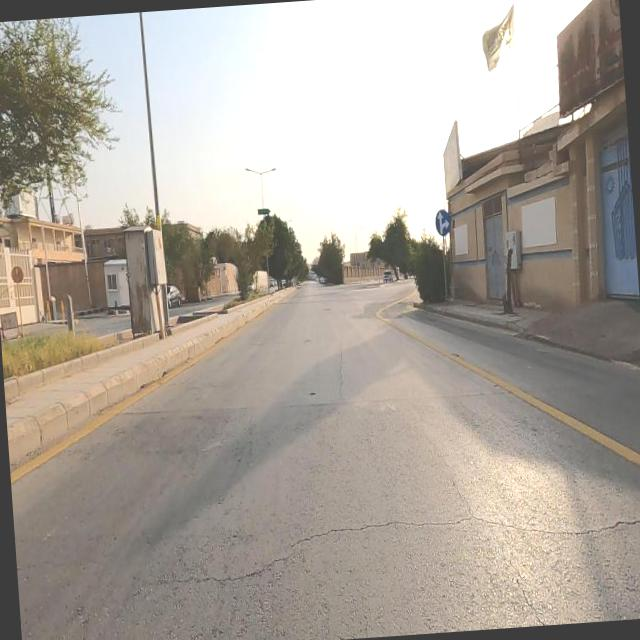debris: (500, 0, 629, 163)
